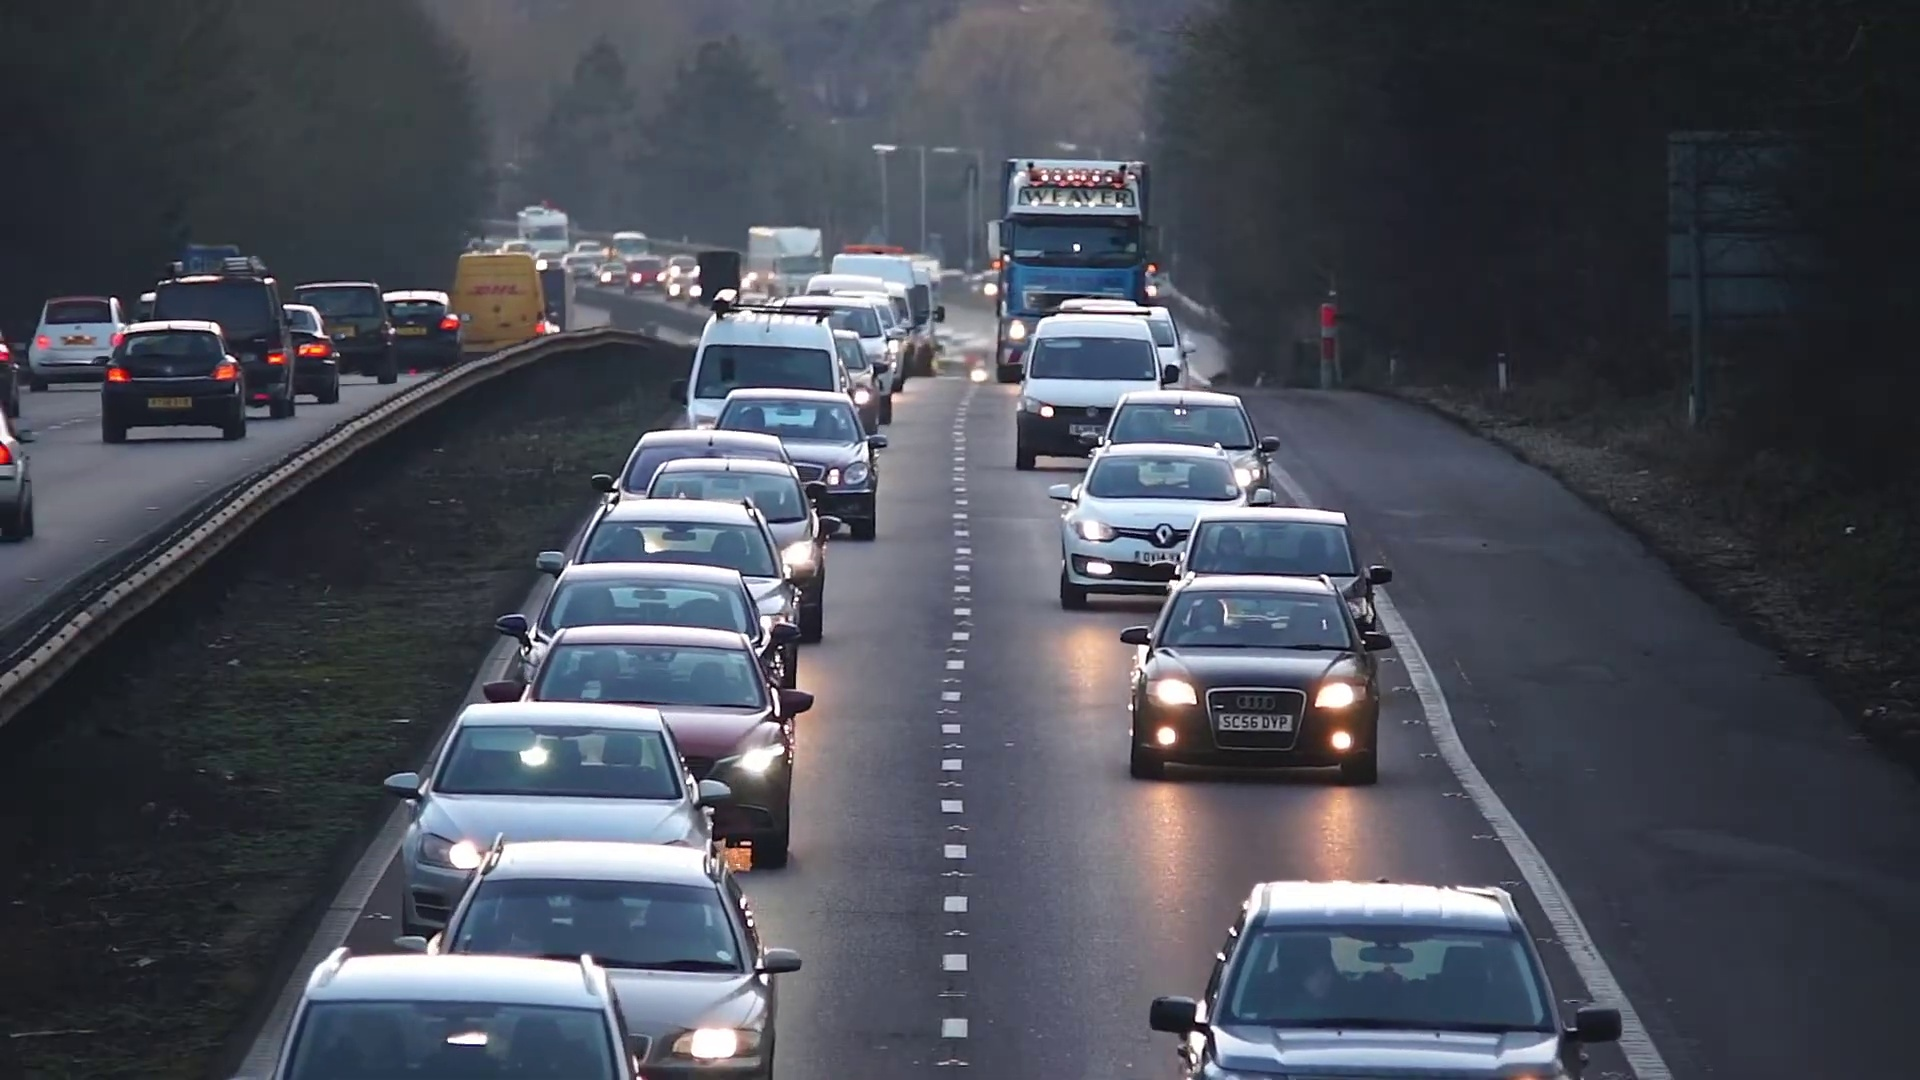license_plate: (1215, 709, 1293, 733)
